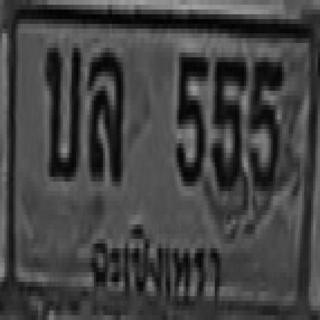A26: (43, 43, 78, 177)
A36: (87, 48, 123, 177)
N05: (248, 55, 282, 194), (210, 53, 244, 186), (175, 48, 206, 182)
P07: (86, 216, 228, 313)
